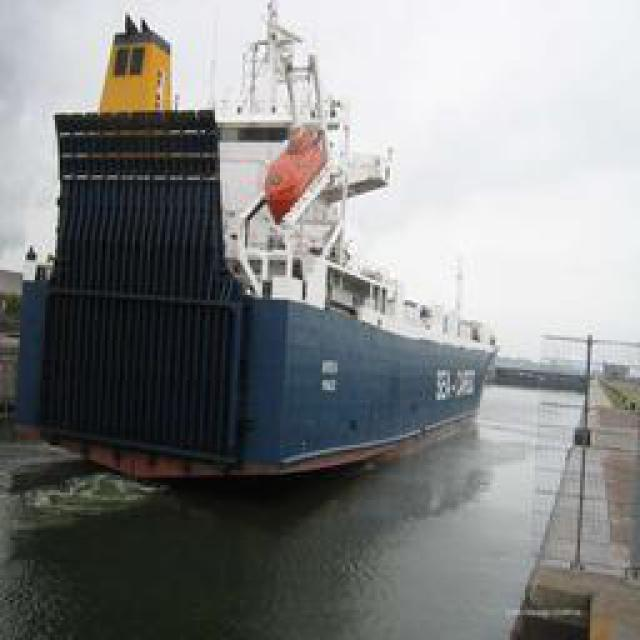Ship: (35, 136, 495, 491)
